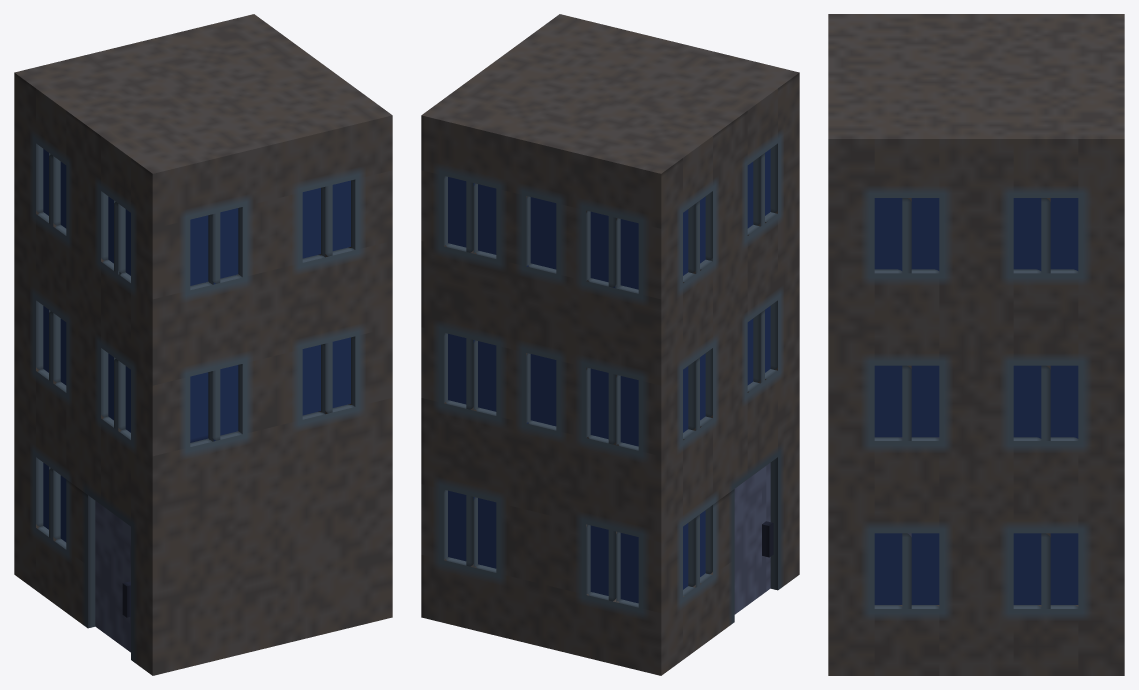
Rendered from b_dzielni_uni5_5.dae.
The picture shows the model from 3 angles, left to right: view 1: azimuth 30°, elevation 25°; view 2: azimuth 150°, elevation 25°; view 3: azimuth 270°, elevation 25°; orthographic projection. The views are drawn at different scales.
Parts seen in each view (by area): view 1: Content; view 2: Content; view 3: Content.
Part boxes in pixels (bbox=[...]): Content: bbox=[14, 14, 392, 675]; Content: bbox=[421, 14, 799, 675]; Content: bbox=[828, 14, 1124, 675].
Size of the model in its own units: 32 by 64 by 32.
Materials: 1 (1 with a texture image).
